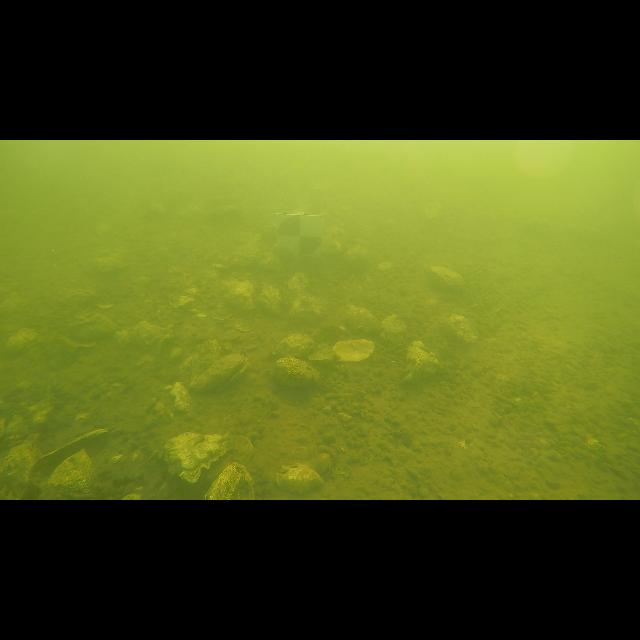Oyster-Closed: (161, 428, 233, 484), (43, 445, 104, 500), (0, 434, 41, 499), (189, 351, 245, 394), (205, 462, 255, 500), (178, 335, 222, 378), (404, 340, 441, 382), (276, 464, 324, 494), (275, 356, 319, 386), (86, 249, 126, 278), (222, 274, 254, 310), (426, 266, 465, 295), (272, 334, 318, 358), (289, 296, 324, 324), (346, 305, 380, 332), (445, 315, 478, 342), (380, 315, 406, 348), (259, 285, 281, 315), (288, 272, 310, 299), (255, 250, 276, 269)
Oyster-Open: (32, 426, 112, 477), (332, 339, 375, 361)
